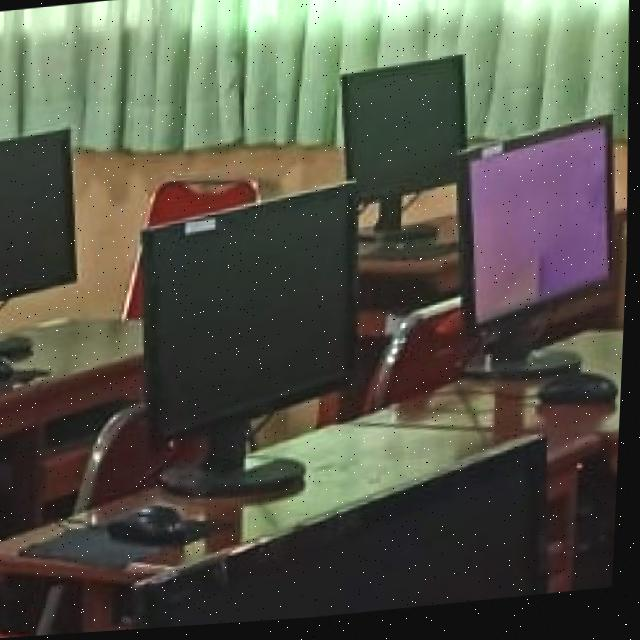offscreen: (145, 187, 355, 438), (343, 62, 466, 201), (0, 130, 79, 299)
onscreen: (471, 134, 612, 329)
